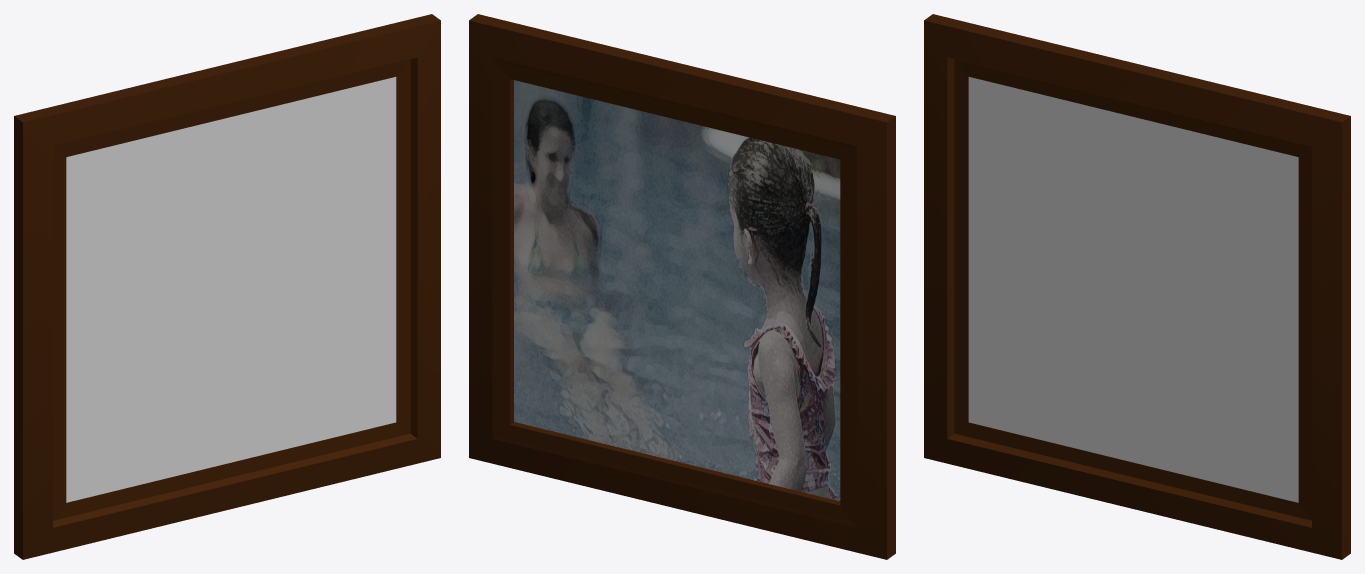
The model's file is PhotoFrameSwim.fbx.
3 renders of one model, left to right at view 1: azimuth 30°, elevation 25°; view 2: azimuth 150°, elevation 25°; view 3: azimuth 330°, elevation 25°, orthographic.
Parts seen in each view (by area): view 1: GlassFrame1, PhotoFrame; view 2: Photo, PhotoFrame; view 3: GlassFrame1, PhotoFrame.
Boxes of the visible parts, x1,y1,x2,y2 form: GlassFrame1: [66, 77, 396, 502]; PhotoFrame: [14, 14, 440, 559]; Photo: [514, 80, 840, 501]; PhotoFrame: [469, 14, 895, 559]; GlassFrame1: [968, 77, 1298, 502]; PhotoFrame: [924, 14, 1350, 559].
Bounding box in the file's own units: 0.6789 × 0.6789 × 0.0434.
3 materials, 1 textured.
